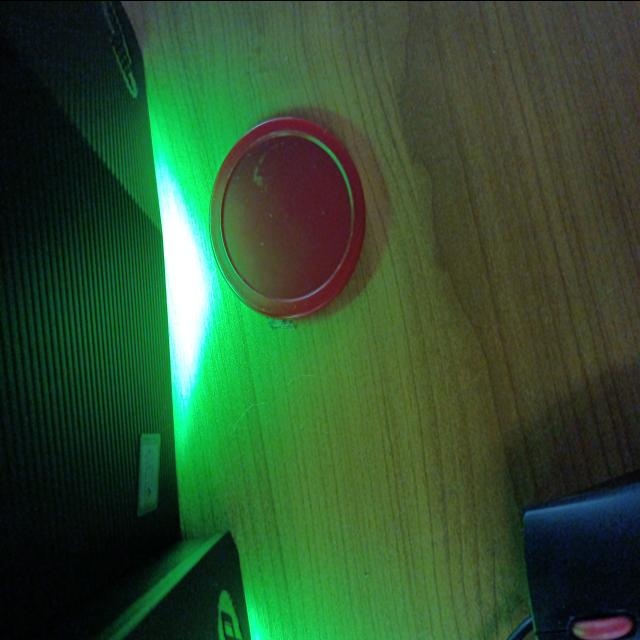chip: (209, 116, 365, 322)
